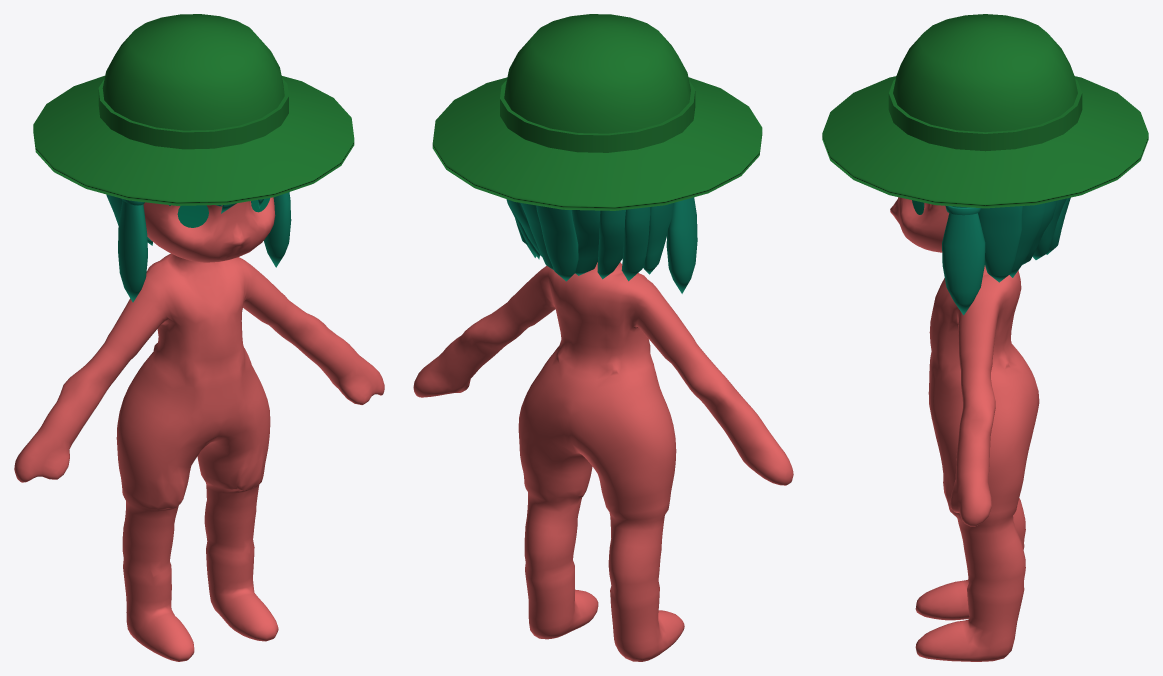
Rendered from Character_Mesh.dae.
The picture shows the model from 3 angles, left to right: view 1: azimuth 30°, elevation 25°; view 2: azimuth 150°, elevation 25°; view 3: azimuth 270°, elevation 25°; orthographic projection. The views are drawn at different scales.
Visible parts, largest first — view 1: Healer, pCylinder1, polySurface12, ojos; view 2: Healer, pCylinder1, polySurface12; view 3: pCylinder1, Healer, polySurface12.
Boxes of the visible parts, <box> form: Healer: <box>14,197,384,661</box>; pCylinder1: <box>33,14,354,205</box>; polySurface12: <box>106,192,291,302</box>; ojos: <box>177,198,270,227</box>; Healer: <box>413,262,793,661</box>; pCylinder1: <box>432,14,762,210</box>; polySurface12: <box>506,197,697,293</box>; pCylinder1: <box>822,14,1148,208</box>; Healer: <box>890,197,1039,661</box>; polySurface12: <box>942,197,1070,315</box>.
Bounding box in the file's own units: 6.19 × 9.72 × 4.73.
